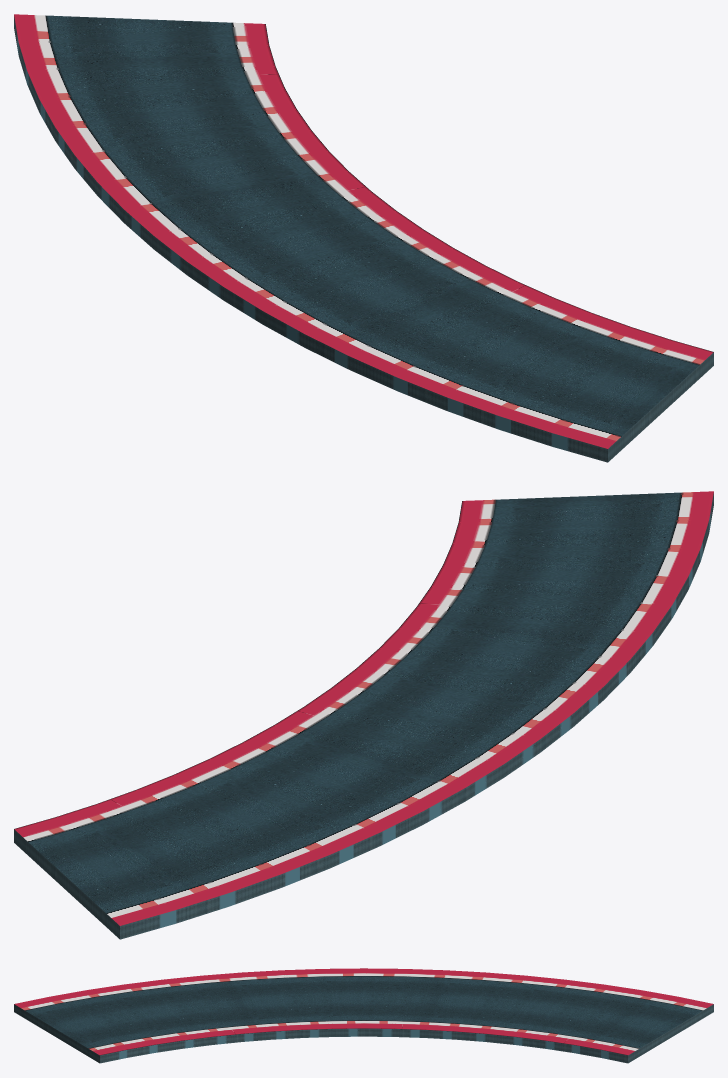
Rendered from curve path.FBX.
3 renders of one model, top to bottom at view 1: azimuth 30°, elevation 25°; view 2: azimuth 150°, elevation 25°; view 3: azimuth 270°, elevation 25°, orthographic. The views are drawn at different scales.
Parts seen in each view (by area): view 1: Box009; view 2: Box009; view 3: Box009.
Boxes of the visible parts, x1=… form: Box009: x1=14, y1=14, x2=713, y2=462; Box009: x1=14, y1=491, x2=713, y2=939; Box009: x1=14, y1=968, x2=713, y2=1063.
Size of the model in its own units: 231 by 9.94 by 784.
1 material, 1 textured.
